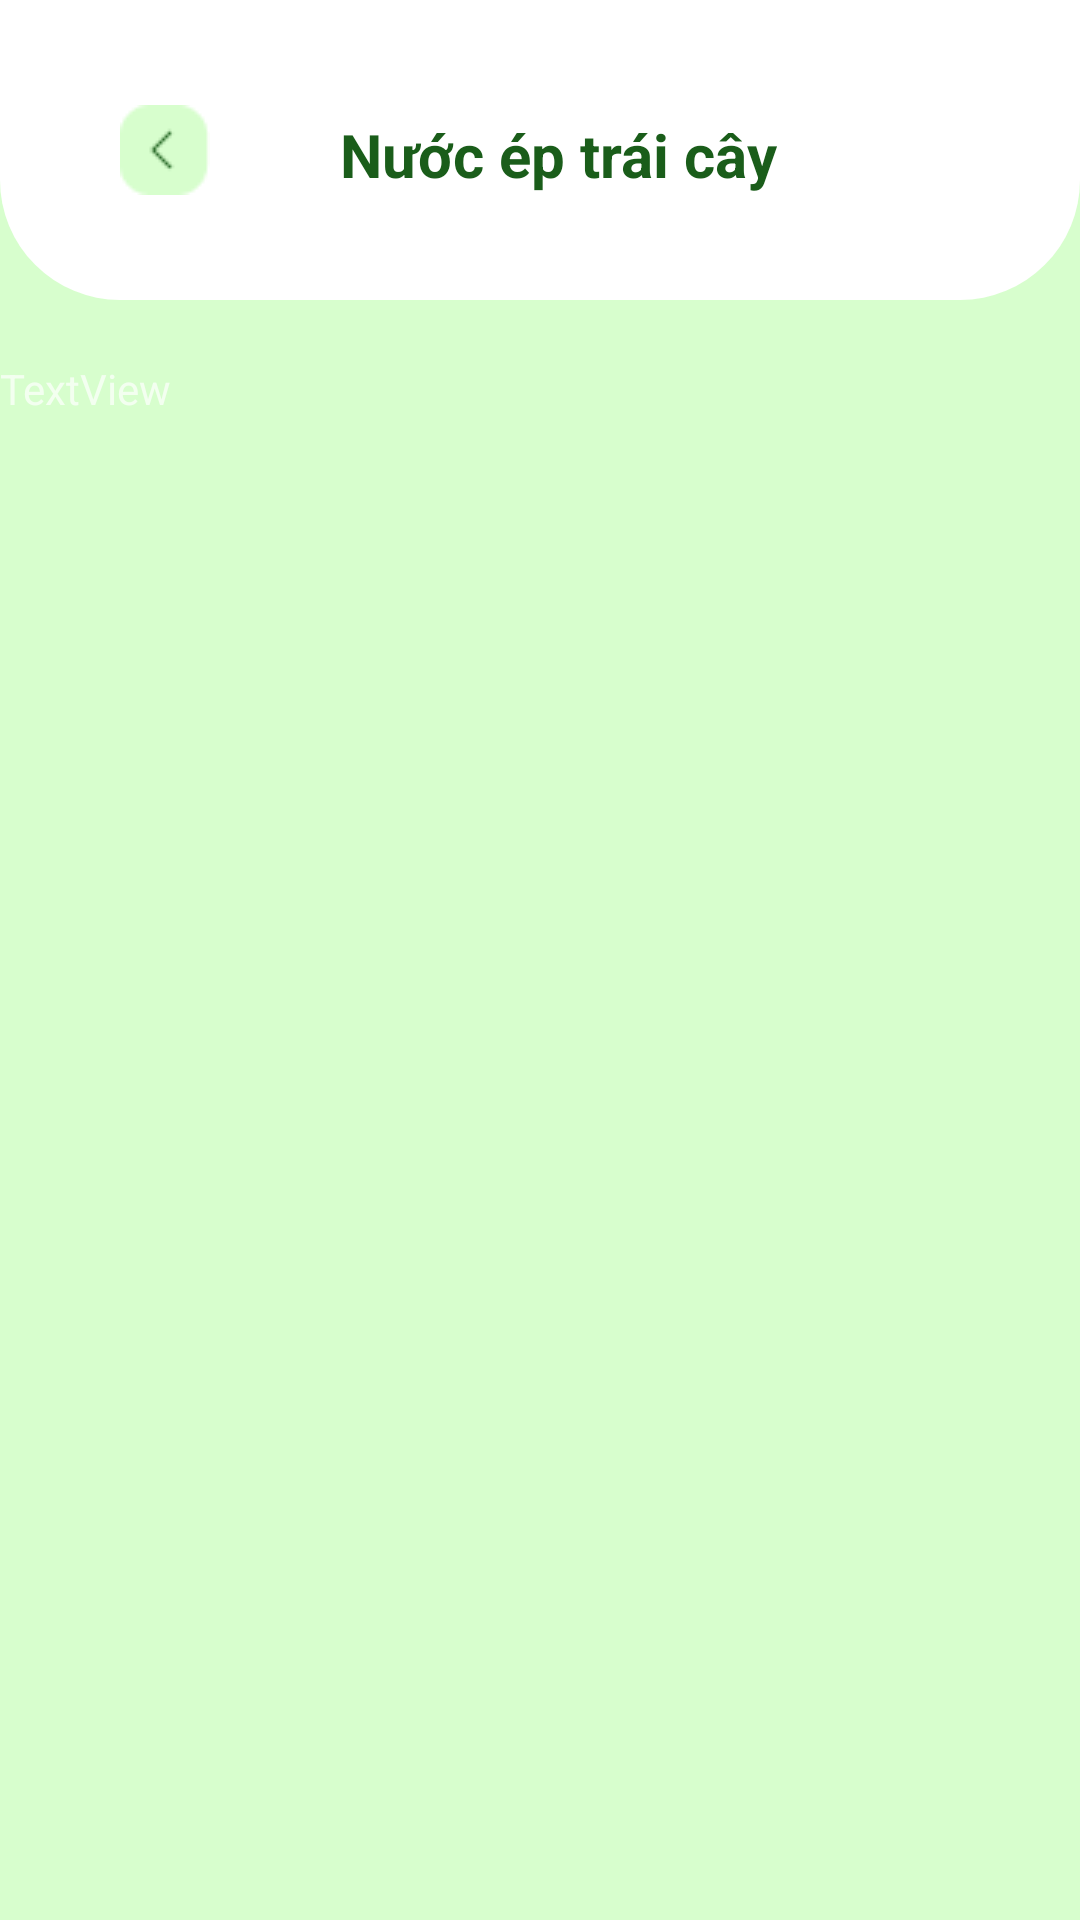

Icon bounding boxes for this 1080 × 1920 phone screenshot, format (x1, y1, x2, y2):
expand left: (120, 105, 207, 195)
